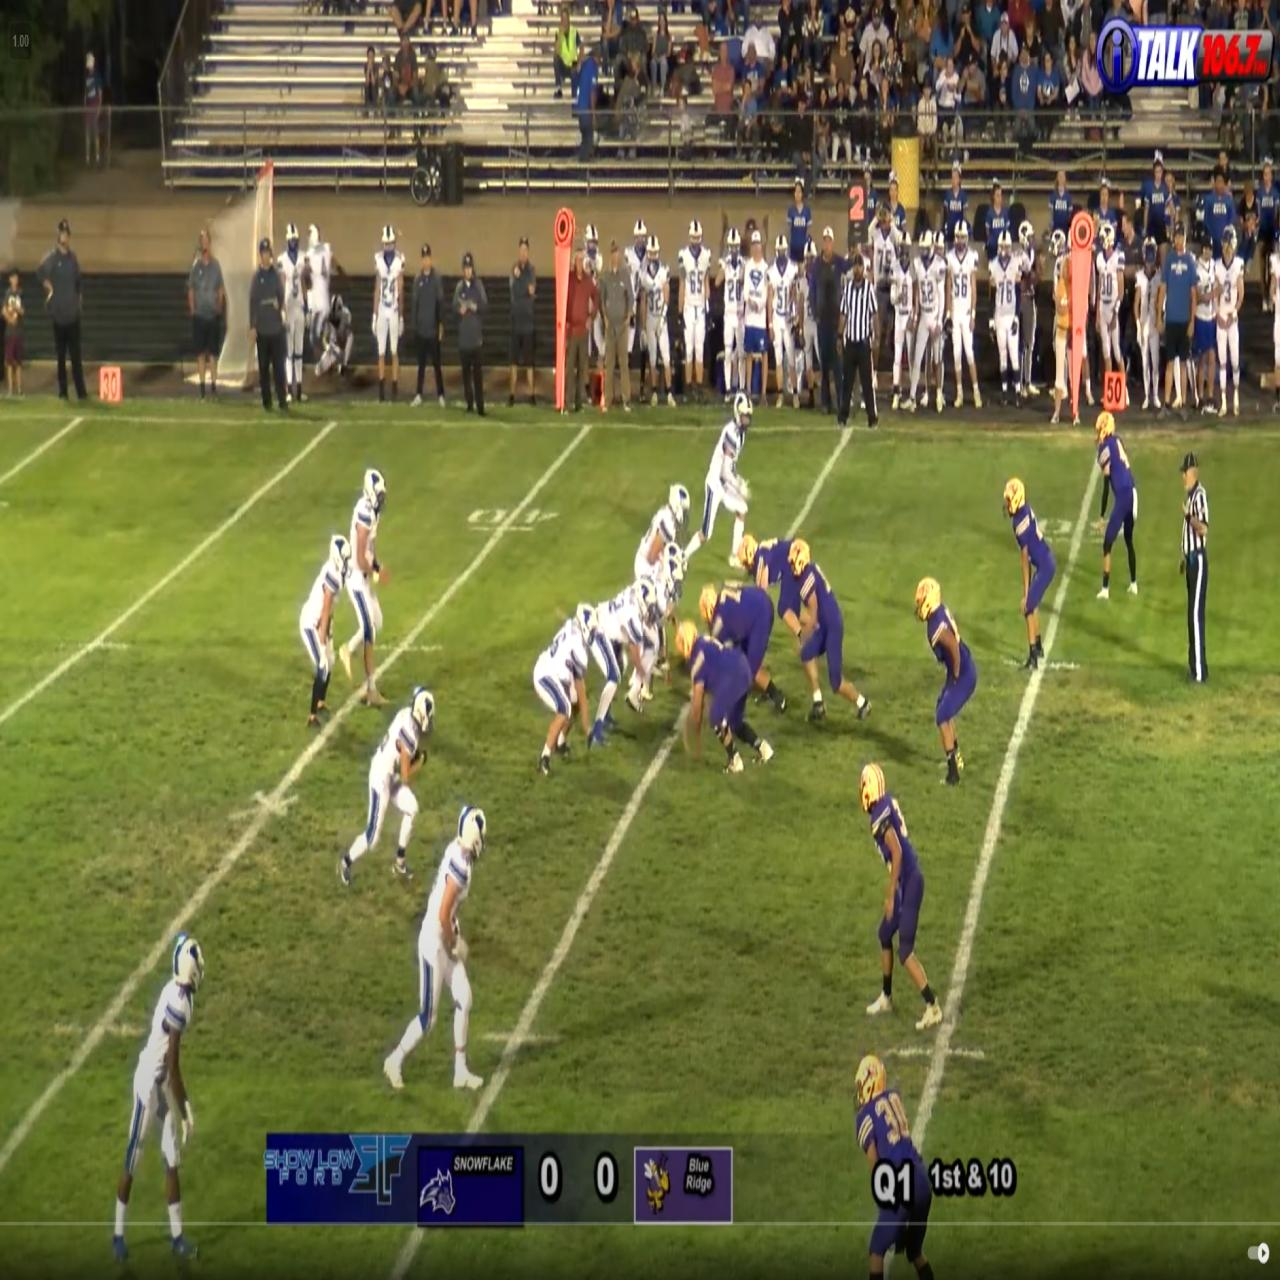40L: (468, 505, 560, 531)
50: (1037, 515, 1129, 539)
